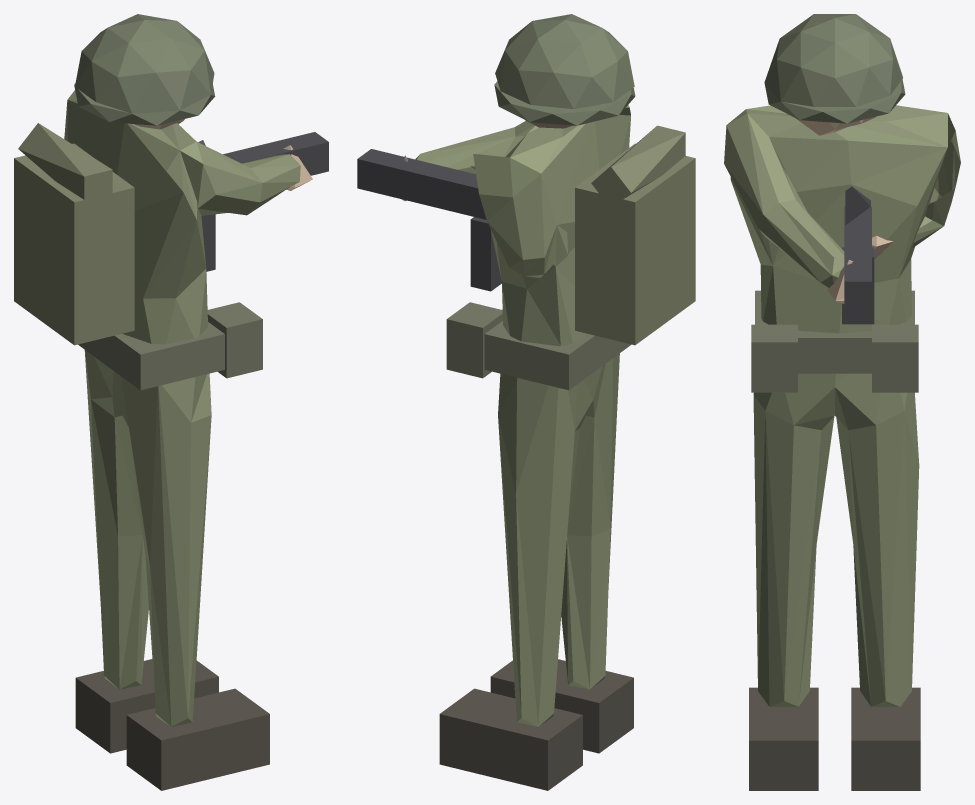
File: trooper.lod2.glb
The picture shows the model from 3 angles, left to right: view 1: azimuth 30°, elevation 25°; view 2: azimuth 150°, elevation 25°; view 3: azimuth 270°, elevation 25°; orthographic projection.
Bounding box in the file's own units: 0.72 × 1.74 × 0.5107.
